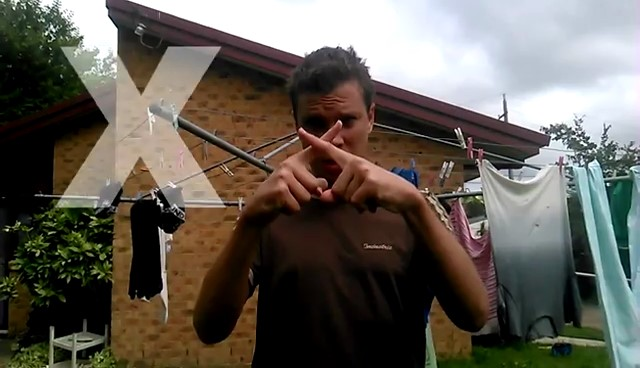X: (252, 121, 412, 223)
